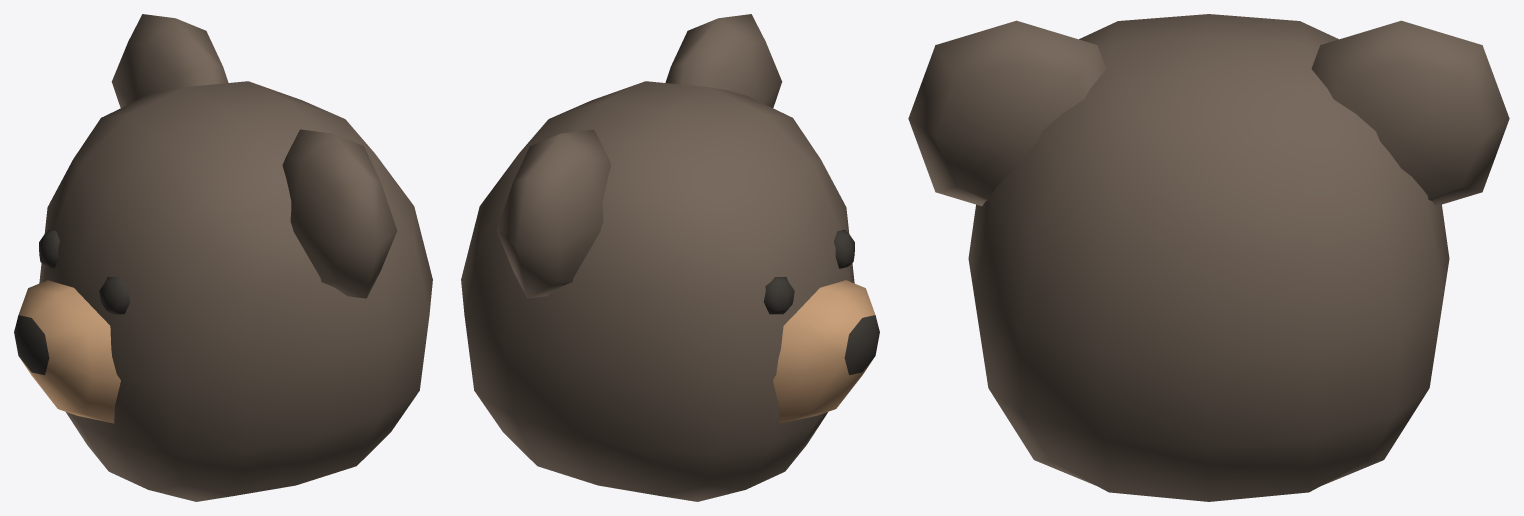
File: bear_head.fbx
3 renders of one model, left to right at view 1: azimuth 30°, elevation 25°; view 2: azimuth 150°, elevation 25°; view 3: azimuth 270°, elevation 25°, orthographic. The views are drawn at different scales.
Parts seen in each view (by area): view 1: Cube.012; view 2: Cube.012; view 3: Cube.012.
Boxes of the visible parts, x1=… form: Cube.012: x1=14, y1=14, x2=432, y2=501; Cube.012: x1=461, y1=14, x2=879, y2=501; Cube.012: x1=908, y1=14, x2=1509, y2=501.
Bounding box in the file's own units: 127 × 123 × 143.
